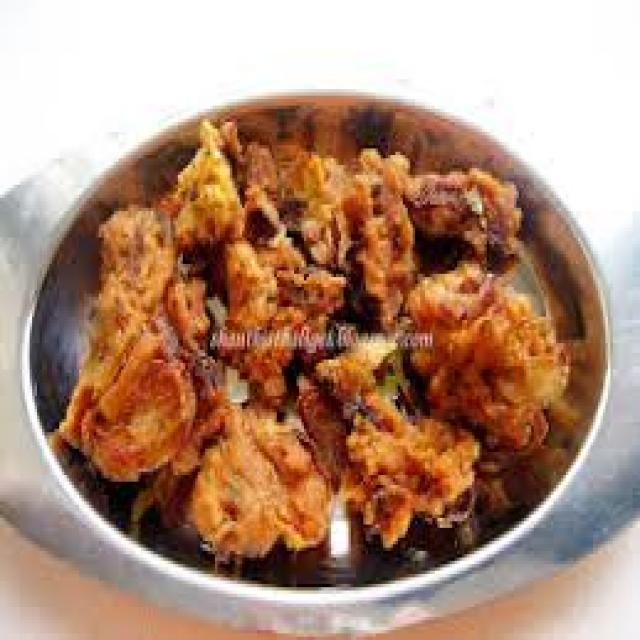BAJI: (291, 342, 472, 537), (85, 244, 222, 470), (402, 274, 562, 457), (155, 399, 326, 549), (220, 235, 343, 399), (304, 169, 423, 328), (182, 131, 294, 267), (397, 183, 513, 265)
